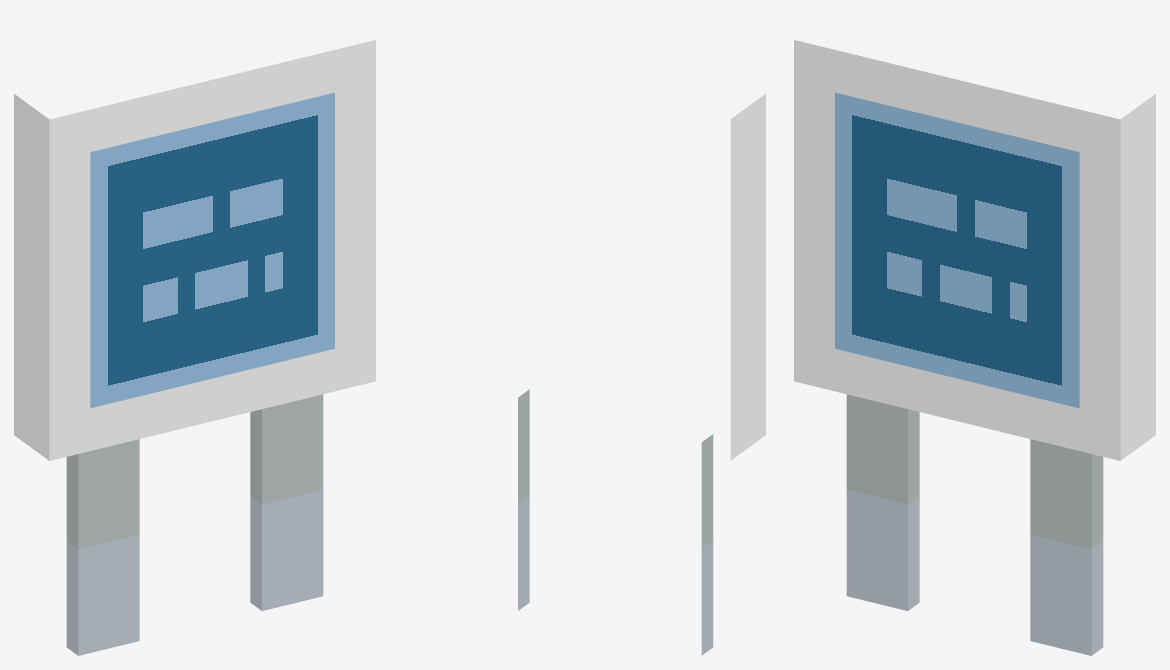
3 views of the same model, side by side, from view 1: azimuth 30°, elevation 25°; view 2: azimuth 150°, elevation 25°; view 3: azimuth 330°, elevation 25° (orthographic).
Parts seen in each view (by area): view 1: board_f; view 2: board_f; view 3: board_f.
Part boxes in pixels (<box>): board_f: <box>14,14,375,655</box>; board_f: <box>404,14,765,655</box>; board_f: <box>794,14,1155,655</box>.
Size of the model in its own units: 1 by 1.62 by 0.1875.
Materials: 2 (2 with a texture image).
